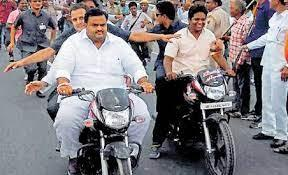no_helmet: (87, 17, 108, 40), (69, 10, 88, 31), (191, 12, 208, 35), (153, 8, 168, 29), (30, 0, 44, 12), (127, 6, 140, 16)
